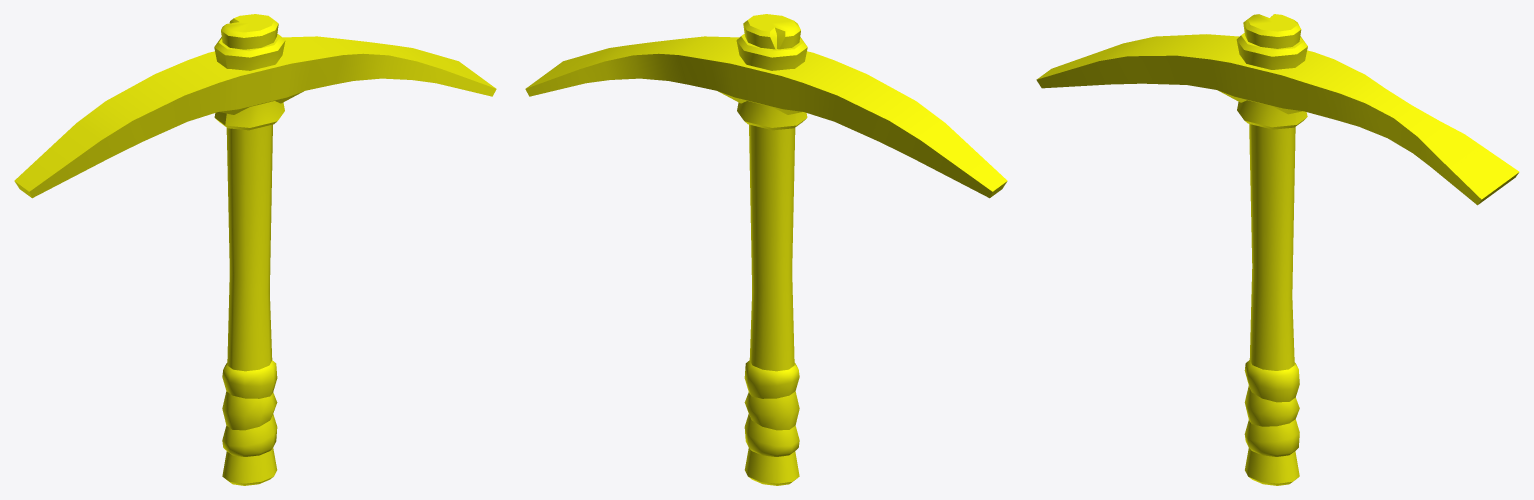
The model's file is kaykit-pickaxe.glb.
The picture shows the model from 3 angles, left to right: view 1: azimuth 30°, elevation 25°; view 2: azimuth 150°, elevation 25°; view 3: azimuth 330°, elevation 25°; orthographic projection.
Visible parts, largest first — view 1: pickaxe; view 2: pickaxe; view 3: pickaxe.
Boxes of the visible parts, x1,y1,x2,y2 form: pickaxe: [14, 14, 496, 485]; pickaxe: [525, 14, 1007, 485]; pickaxe: [1036, 14, 1519, 485].
Size of the model in its own units: 1.45 by 1.39 by 0.2085.
